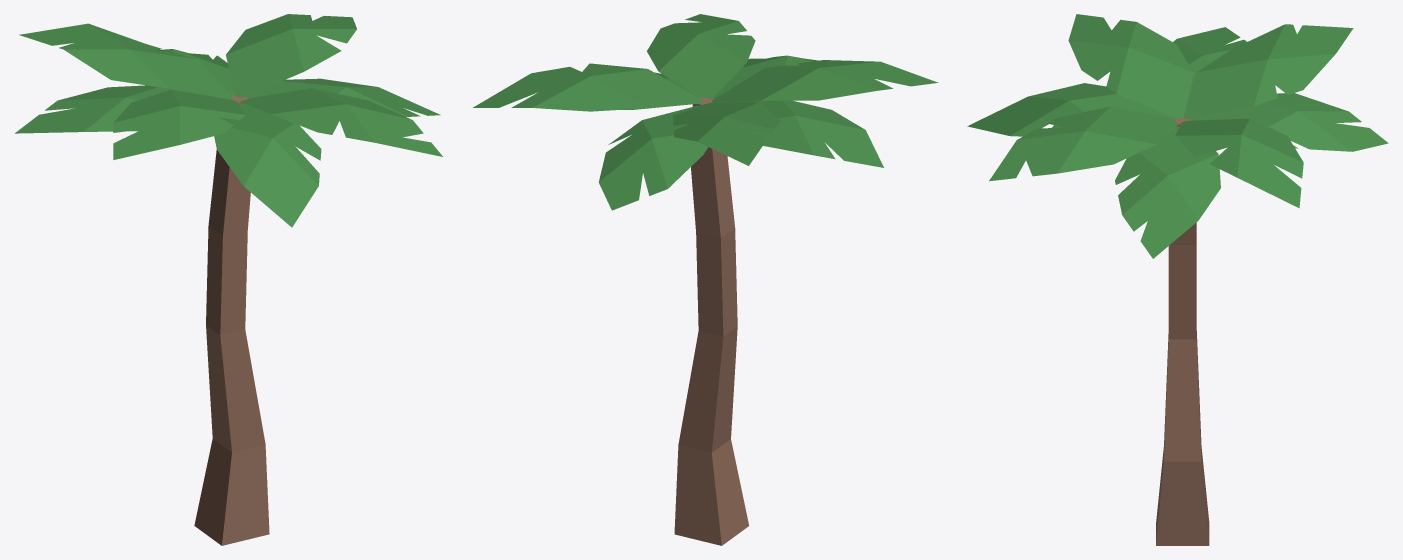
File: tree-type-01.obj
3 renders of one model, left to right at view 1: azimuth 30°, elevation 25°; view 2: azimuth 150°, elevation 25°; view 3: azimuth 270°, elevation 25°, orthographic. The views are drawn at different scales.
Visible parts, largest first — view 1: tree-type-01; view 2: tree-type-01; view 3: tree-type-01.
Part boxes in pixels (x1,y1,x2,y2): tree-type-01: [15, 14, 442, 545]; tree-type-01: [473, 14, 938, 545]; tree-type-01: [967, 14, 1388, 545].
Bounding box in the file's own units: 3.41 × 3.93 × 3.3.
